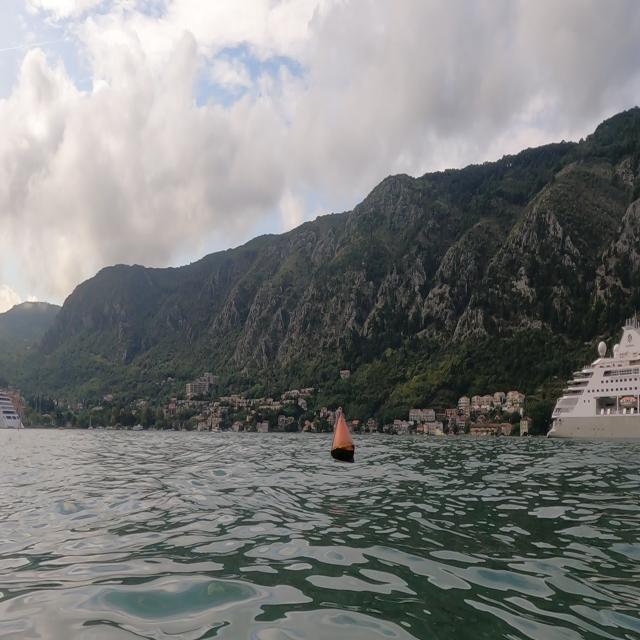boat: (539, 304, 640, 442)
buoy: (328, 404, 358, 468)
